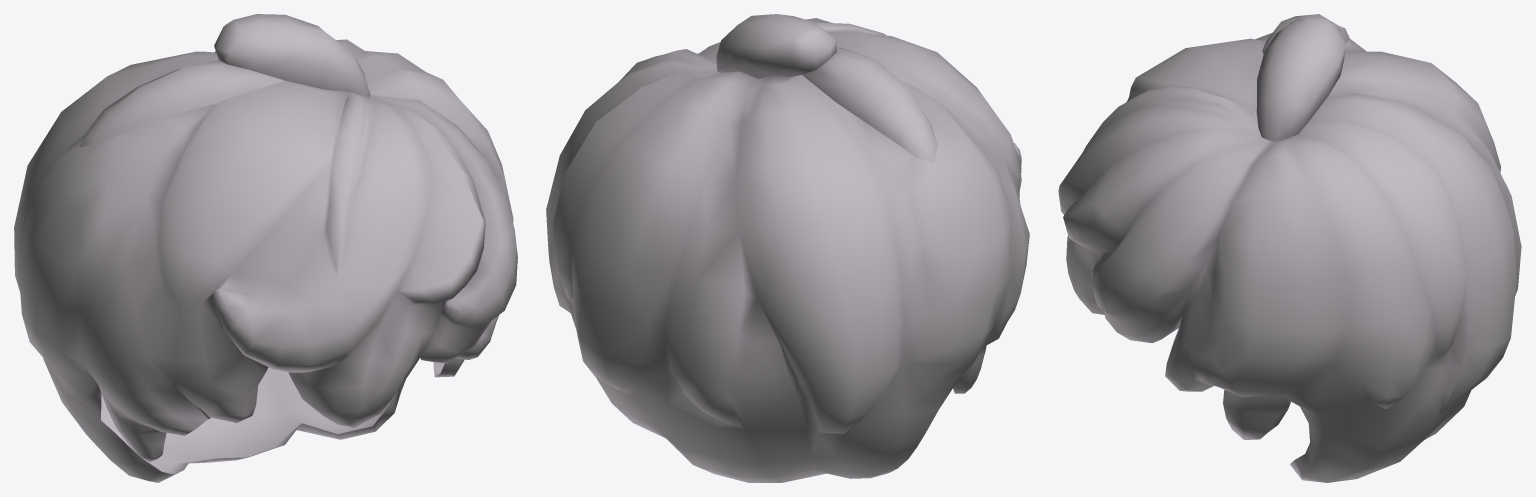
File: SM_hairHat0.fbx
3 views of the same model, side by side, from view 1: azimuth 30°, elevation 25°; view 2: azimuth 150°, elevation 25°; view 3: azimuth 270°, elevation 25° (orthographic). The views are drawn at different scales.
Parts seen in each view (by area): view 1: hairHat; view 2: hairHat; view 3: hairHat.
Boxes of the visible parts, bbox=[...] form: hairHat: bbox=[14, 14, 517, 482]; hairHat: bbox=[546, 14, 1029, 482]; hairHat: bbox=[1058, 14, 1521, 482].
Size of the model in its own units: 46.61 by 45.61 by 45.71.
